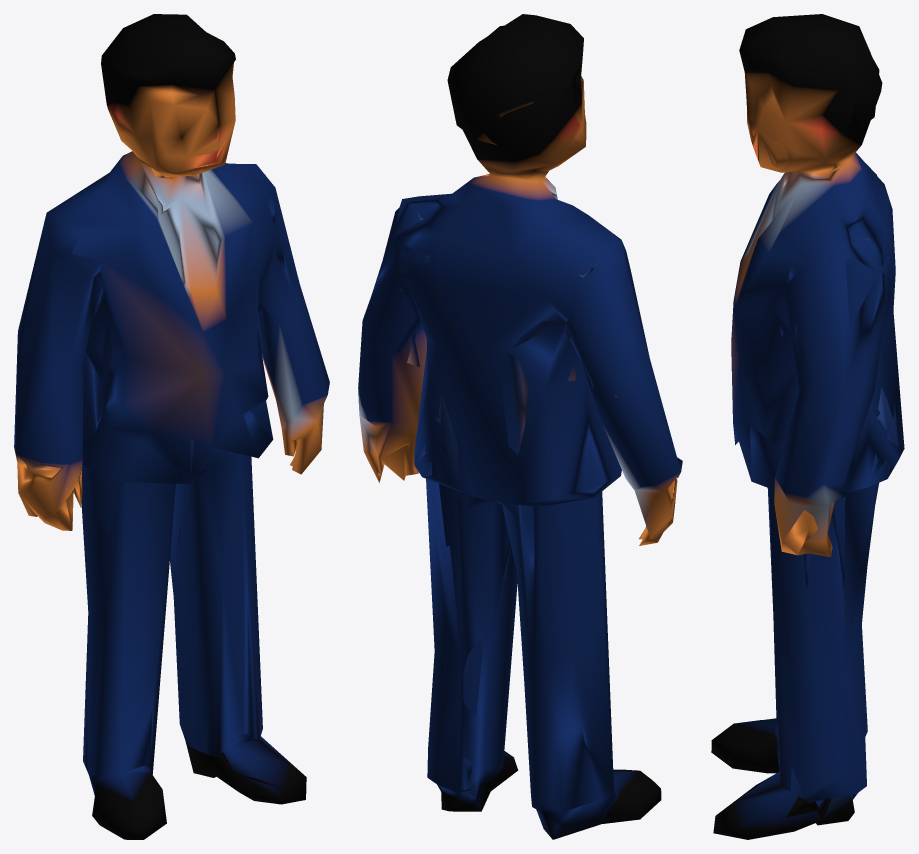
Rendered from gen3d-investor-lod1.glb.
The picture shows the model from 3 angles, left to right: view 1: azimuth 30°, elevation 25°; view 2: azimuth 150°, elevation 25°; view 3: azimuth 270°, elevation 25°; orthographic projection. The views are drawn at different scales.
Visible parts, largest first — view 1: part_0; view 2: part_0; view 3: part_0.
Part boxes in pixels (x1,y1,x2,y2): part_0: (14, 14, 329, 839); part_0: (358, 14, 682, 839); part_0: (711, 14, 904, 839).
Size of the model in its own units: 0.4233 by 0.9952 by 0.2256.
